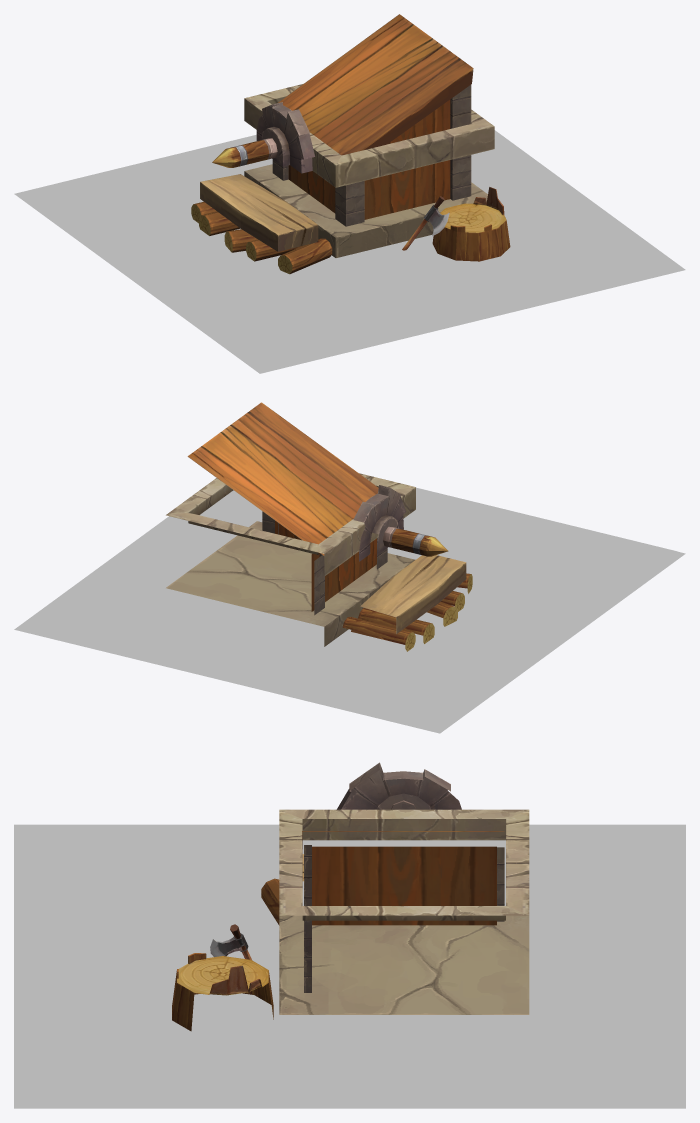
Rendered from The main city_023_LV06.FBX.
The picture shows the model from 3 angles, top to bottom: view 1: azimuth 30°, elevation 25°; view 2: azimuth 150°, elevation 25°; view 3: azimuth 270°, elevation 25°; orthographic projection. The views are drawn at different scales.
Parts seen in each view (by area): view 1: The main city_023_LV06; view 2: The main city_023_LV06; view 3: The main city_023_LV06.
Part boxes in pixels (x1,y1,x2,y2): The main city_023_LV06: (14, 14, 685, 373); The main city_023_LV06: (14, 402, 685, 733); The main city_023_LV06: (14, 762, 685, 1108).
Bounding box in the file's own units: 59.9 × 20.58 × 59.9.
